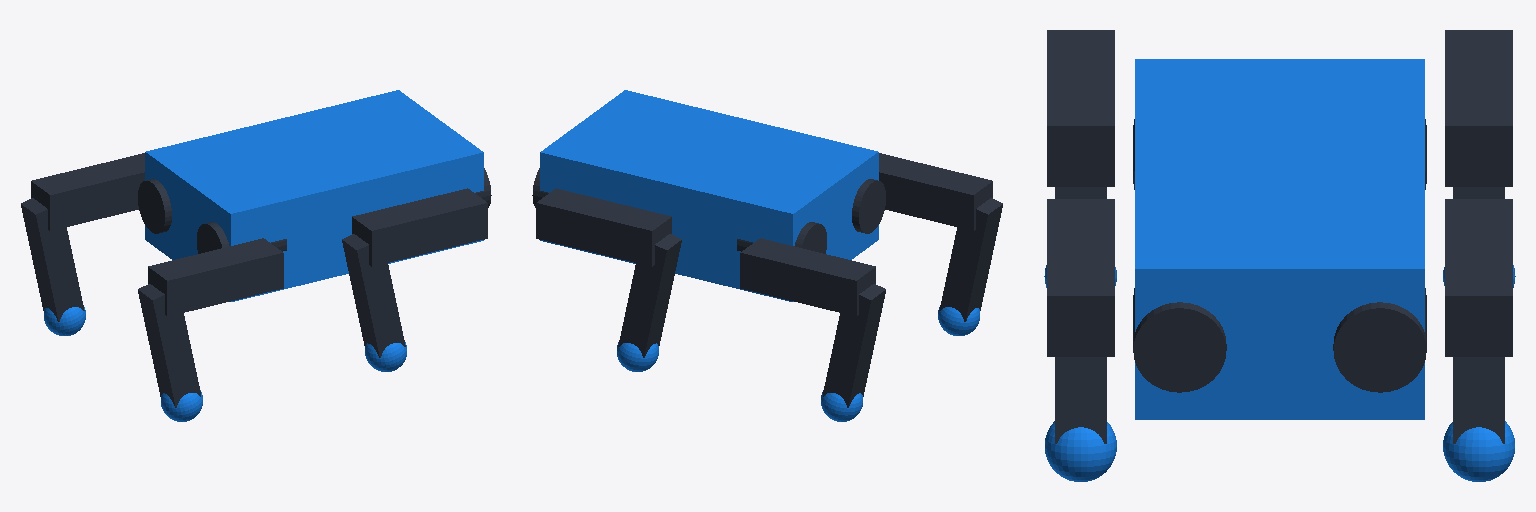
The robot description file, URDF, robot "go2_rars01_sim_visual":
<?xml version="1.0"?>
<!-- RViz-only Go2 kinematic model. Its root is a separate sim_visual tree.
     Pose and 12 leg joint angles are copied directly from MuJoCo. -->
<robot name="go2_rars01_sim_visual">
  <material name="body"><color rgba="0.15 0.55 0.95 1.0"/></material>
  <material name="leg"><color rgba="0.22 0.25 0.30 1.0"/></material>
  <link name="sim_visual_base"><visual><geometry><box size="0.48 0.28 0.16"/></geometry><material name="body"/></visual></link>
  <link name="sim_visual_FL_hip"><visual><geometry><cylinder radius="0.045" length="0.12"/></geometry><material name="leg"/></visual></link>
  <joint name="FL_hip_joint" type="revolute"><parent link="sim_visual_base"/><child link="sim_visual_FL_hip"/><origin xyz="0.1934 0.0965 0" rpy="0 1.5708 0"/><axis xyz="1 0 0"/><limit lower="-1.0472" upper="1.0472" effort="23.7" velocity="30.1"/></joint>
  <link name="sim_visual_FL_thigh"><visual><origin xyz="0 0 -0.105"/><geometry><box size="0.065 0.065 0.22"/></geometry><material name="leg"/></visual></link>
  <joint name="FL_thigh_joint" type="revolute"><parent link="sim_visual_FL_hip"/><child link="sim_visual_FL_thigh"/><origin xyz="0 0.0955 0"/><axis xyz="0 1 0"/><limit lower="-1.5708" upper="3.4907" effort="23.7" velocity="30.1"/></joint>
  <link name="sim_visual_FL_calf"><visual><origin xyz="0 0 -0.10"/><geometry><box size="0.050 0.050 0.21"/></geometry><material name="leg"/></visual></link>
  <joint name="FL_calf_joint" type="revolute"><parent link="sim_visual_FL_thigh"/><child link="sim_visual_FL_calf"/><origin xyz="0 0 -0.213"/><axis xyz="0 1 0"/><limit lower="-2.7227" upper="-0.83776" effort="35.55" velocity="20.07"/></joint>
  <link name="sim_visual_FL_foot"><visual><geometry><sphere radius="0.035"/></geometry><material name="body"/></visual></link>
  <joint name="FL_foot_fixed" type="fixed"><parent link="sim_visual_FL_calf"/><child link="sim_visual_FL_foot"/><origin xyz="0 0 -0.213"/></joint>
  <link name="sim_visual_FR_hip"><visual><geometry><cylinder radius="0.045" length="0.12"/></geometry><material name="leg"/></visual></link>
  <joint name="FR_hip_joint" type="revolute"><parent link="sim_visual_base"/><child link="sim_visual_FR_hip"/><origin xyz="0.1934 -0.0965 0" rpy="0 1.5708 0"/><axis xyz="1 0 0"/><limit lower="-1.0472" upper="1.0472" effort="23.7" velocity="30.1"/></joint>
  <link name="sim_visual_FR_thigh"><visual><origin xyz="0 0 -0.105"/><geometry><box size="0.065 0.065 0.22"/></geometry><material name="leg"/></visual></link>
  <joint name="FR_thigh_joint" type="revolute"><parent link="sim_visual_FR_hip"/><child link="sim_visual_FR_thigh"/><origin xyz="0 -0.0955 0"/><axis xyz="0 1 0"/><limit lower="-1.5708" upper="3.4907" effort="23.7" velocity="30.1"/></joint>
  <link name="sim_visual_FR_calf"><visual><origin xyz="0 0 -0.10"/><geometry><box size="0.050 0.050 0.21"/></geometry><material name="leg"/></visual></link>
  <joint name="FR_calf_joint" type="revolute"><parent link="sim_visual_FR_thigh"/><child link="sim_visual_FR_calf"/><origin xyz="0 0 -0.213"/><axis xyz="0 1 0"/><limit lower="-2.7227" upper="-0.83776" effort="35.55" velocity="20.07"/></joint>
  <link name="sim_visual_FR_foot"><visual><geometry><sphere radius="0.035"/></geometry><material name="body"/></visual></link>
  <joint name="FR_foot_fixed" type="fixed"><parent link="sim_visual_FR_calf"/><child link="sim_visual_FR_foot"/><origin xyz="0 0 -0.213"/></joint>
  <link name="sim_visual_RL_hip"><visual><geometry><cylinder radius="0.045" length="0.12"/></geometry><material name="leg"/></visual></link>
  <joint name="RL_hip_joint" type="revolute"><parent link="sim_visual_base"/><child link="sim_visual_RL_hip"/><origin xyz="-0.1934 0.0965 0" rpy="0 1.5708 0"/><axis xyz="1 0 0"/><limit lower="-1.0472" upper="1.0472" effort="23.7" velocity="30.1"/></joint>
  <link name="sim_visual_RL_thigh"><visual><origin xyz="0 0 -0.105"/><geometry><box size="0.065 0.065 0.22"/></geometry><material name="leg"/></visual></link>
  <joint name="RL_thigh_joint" type="revolute"><parent link="sim_visual_RL_hip"/><child link="sim_visual_RL_thigh"/><origin xyz="0 0.0955 0"/><axis xyz="0 1 0"/><limit lower="-1.5708" upper="3.4907" effort="23.7" velocity="30.1"/></joint>
  <link name="sim_visual_RL_calf"><visual><origin xyz="0 0 -0.10"/><geometry><box size="0.050 0.050 0.21"/></geometry><material name="leg"/></visual></link>
  <joint name="RL_calf_joint" type="revolute"><parent link="sim_visual_RL_thigh"/><child link="sim_visual_RL_calf"/><origin xyz="0 0 -0.213"/><axis xyz="0 1 0"/><limit lower="-2.7227" upper="-0.83776" effort="35.55" velocity="20.07"/></joint>
  <link name="sim_visual_RL_foot"><visual><geometry><sphere radius="0.035"/></geometry><material name="body"/></visual></link>
  <joint name="RL_foot_fixed" type="fixed"><parent link="sim_visual_RL_calf"/><child link="sim_visual_RL_foot"/><origin xyz="0 0 -0.213"/></joint>
  <link name="sim_visual_RR_hip"><visual><geometry><cylinder radius="0.045" length="0.12"/></geometry><material name="leg"/></visual></link>
  <joint name="RR_hip_joint" type="revolute"><parent link="sim_visual_base"/><child link="sim_visual_RR_hip"/><origin xyz="-0.1934 -0.0965 0" rpy="0 1.5708 0"/><axis xyz="1 0 0"/><limit lower="-1.0472" upper="1.0472" effort="23.7" velocity="30.1"/></joint>
  <link name="sim_visual_RR_thigh"><visual><origin xyz="0 0 -0.105"/><geometry><box size="0.065 0.065 0.22"/></geometry><material name="leg"/></visual></link>
  <joint name="RR_thigh_joint" type="revolute"><parent link="sim_visual_RR_hip"/><child link="sim_visual_RR_thigh"/><origin xyz="0 -0.0955 0"/><axis xyz="0 1 0"/><limit lower="-1.5708" upper="3.4907" effort="23.7" velocity="30.1"/></joint>
  <link name="sim_visual_RR_calf"><visual><origin xyz="0 0 -0.10"/><geometry><box size="0.050 0.050 0.21"/></geometry><material name="leg"/></visual></link>
  <joint name="RR_calf_joint" type="revolute"><parent link="sim_visual_RR_thigh"/><child link="sim_visual_RR_calf"/><origin xyz="0 0 -0.213"/><axis xyz="0 1 0"/><limit lower="-2.7227" upper="-0.83776" effort="35.55" velocity="20.07"/></joint>
  <link name="sim_visual_RR_foot"><visual><geometry><sphere radius="0.035"/></geometry><material name="body"/></visual></link>
  <joint name="RR_foot_fixed" type="fixed"><parent link="sim_visual_RR_calf"/><child link="sim_visual_RR_foot"/><origin xyz="0 0 -0.213"/></joint>
</robot>

--- Render facts (derived) ---
The picture shows the robot from 3 angles, left to right: view 1: azimuth 30°, elevation 25°; view 2: azimuth 150°, elevation 25°; view 3: azimuth 270°, elevation 25°; orthographic projection.
Robot: go2_rars01_sim_visual — 17 links, 16 joints (12 revolute, 4 fixed); root link sim_visual_base; default pose: joints at zero except 4 at the middle of their limits (FL_calf_joint = -1.78, FR_calf_joint = -1.78, RL_calf_joint = -1.78, RR_calf_joint = -1.78).
Links seen in each view (by area): view 1: sim_visual_base, sim_visual_FR_thigh, sim_visual_RR_thigh, sim_visual_RL_thigh, sim_visual_RL_calf, sim_visual_RR_calf, sim_visual_FR_calf, sim_visual_RL_hip, sim_visual_RR_hip, sim_visual_RR_foot, sim_visual_FR_foot, sim_visual_RL_foot; view 2: sim_visual_base, sim_visual_FL_thigh, sim_visual_RL_thigh, sim_visual_RR_thigh, sim_visual_RR_calf, sim_visual_RL_calf, sim_visual_FL_calf, sim_visual_RR_hip, sim_visual_RL_hip, sim_visual_RL_foot, sim_visual_FL_foot, sim_visual_RR_foot; view 3: sim_visual_base, sim_visual_FL_thigh, sim_visual_FR_thigh, sim_visual_RL_thigh, sim_visual_RR_thigh, sim_visual_FL_hip, sim_visual_FR_hip, sim_visual_FL_calf, sim_visual_FR_calf, sim_visual_FL_foot, sim_visual_FR_foot, sim_visual_RL_calf (+1 smaller).
Boxes of the visible links, x1,y1,x2,y2 form: sim_visual_base: [145, 90, 483, 301]; sim_visual_FR_thigh: [352, 188, 487, 266]; sim_visual_RR_thigh: [148, 238, 283, 316]; sim_visual_RL_thigh: [31, 153, 144, 230]; sim_visual_RL_calf: [21, 198, 84, 321]; sim_visual_RR_calf: [138, 284, 200, 407]; sim_visual_FR_calf: [342, 234, 405, 357]; sim_visual_RL_hip: [138, 179, 171, 233]; sim_visual_RR_hip: [197, 222, 286, 253]; sim_visual_RR_foot: [161, 390, 202, 421]; sim_visual_FR_foot: [365, 342, 406, 371]; sim_visual_RL_foot: [44, 307, 85, 335]; sim_visual_base: [540, 90, 878, 301]; sim_visual_FL_thigh: [536, 188, 671, 266]; sim_visual_RL_thigh: [740, 238, 875, 316]; sim_visual_RR_thigh: [879, 153, 992, 230]; sim_visual_RR_calf: [939, 198, 1002, 321]; sim_visual_RL_calf: [823, 284, 885, 407]; sim_visual_FL_calf: [618, 234, 681, 357]; sim_visual_RR_hip: [852, 179, 885, 233]; sim_visual_RL_hip: [737, 222, 826, 253]; sim_visual_RL_foot: [821, 390, 862, 421]; sim_visual_FL_foot: [617, 342, 658, 371]; sim_visual_RR_foot: [938, 307, 979, 335]; sim_visual_base: [1135, 59, 1424, 419]; sim_visual_FL_thigh: [1445, 199, 1512, 356]; sim_visual_FR_thigh: [1047, 199, 1114, 356]; sim_visual_RL_thigh: [1445, 30, 1512, 186]; sim_visual_RR_thigh: [1047, 30, 1114, 186]; sim_visual_FL_hip: [1333, 288, 1426, 392]; sim_visual_FR_hip: [1133, 288, 1226, 392]; sim_visual_FL_calf: [1453, 357, 1504, 443]; sim_visual_FR_calf: [1055, 357, 1106, 443]; sim_visual_FL_foot: [1443, 421, 1514, 481]; sim_visual_FR_foot: [1045, 421, 1116, 481]; sim_visual_RL_calf: [1453, 187, 1504, 198].
Size in the robot's own frame: 0.6853 by 0.454 by 0.3233 metres.
Geometry: primitives only (box / cylinder / sphere), no mesh files.
